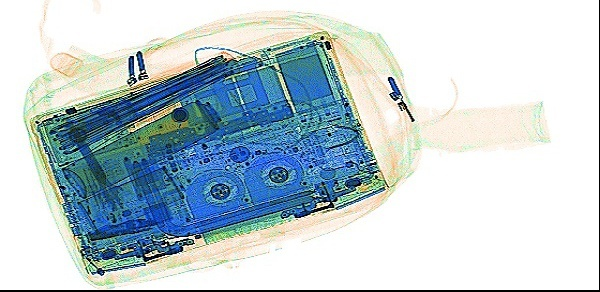pressure: (57, 98, 221, 200)
scissors: (64, 119, 138, 226)
